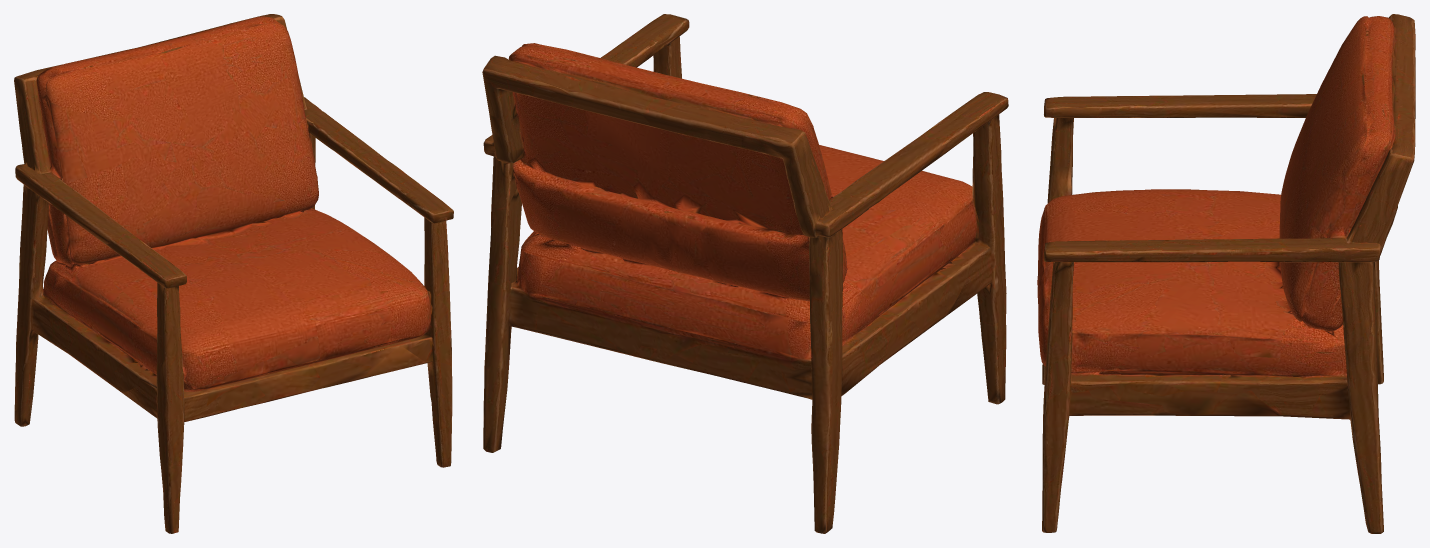
File: visitor.glb
The picture shows the model from 3 angles, left to right: view 1: azimuth 30°, elevation 25°; view 2: azimuth 150°, elevation 25°; view 3: azimuth 270°, elevation 25°; orthographic projection. The views are drawn at different scales.
Bounding box in the file's own units: 1.67 × 1.9 × 1.7.
1 material, 1 textured.
